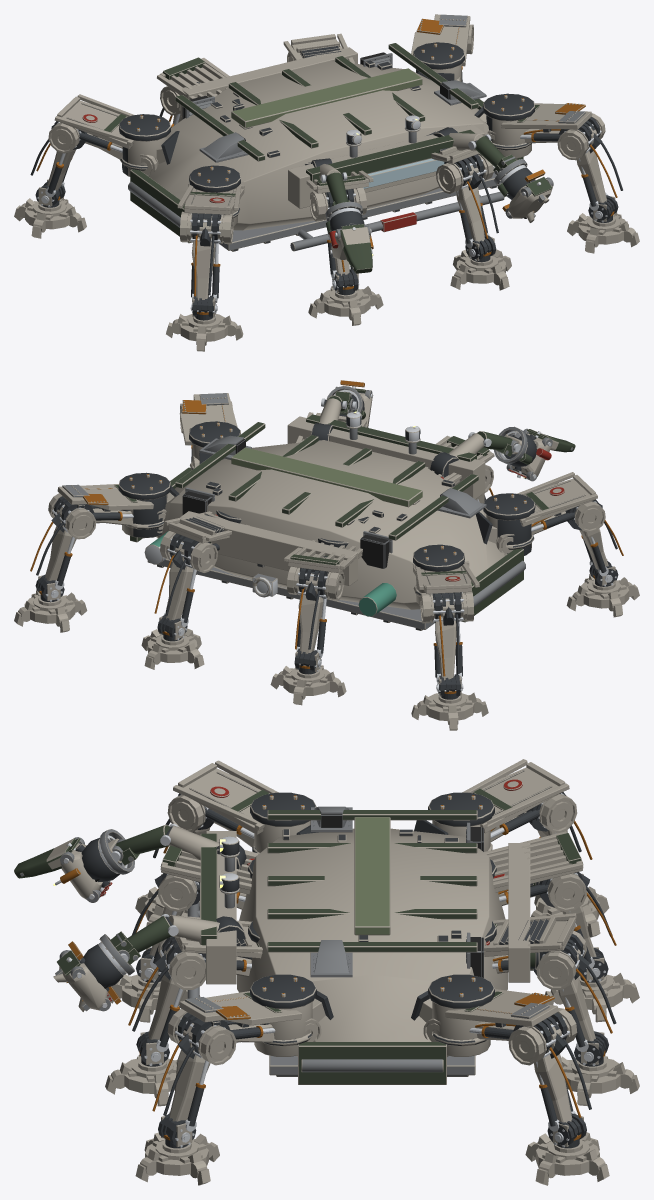
Rendered from crab_walker_8.fbx.
The picture shows the model from 3 angles, top to bottom: view 1: azimuth 30°, elevation 25°; view 2: azimuth 150°, elevation 25°; view 3: azimuth 270°, elevation 25°; orthographic projection. The views are drawn at different scales.
Parts seen in each view (by area): view 1: Mesh_Crab_Carapace, Mesh_Crab_Prow, Mesh_Crab_Underbelly, Mesh_Leg_F1_Lower, Mesh_Leg_F3_Lower, Mesh_Claw_N_Palm, Mesh_Leg_F4_Lower, Mesh_Claw_P_Palm, Mesh_Leg_A1_Shroud, Mesh_Leg_F3_Foot, Mesh_Leg_F2_Foot, Mesh_Leg_F1_Foot (+19 smaller); view 2: Mesh_Crab_Carapace, Mesh_Crab_Stern, Mesh_Crab_Prow, Mesh_Crab_Underbelly, Mesh_Leg_A1_Lower, Mesh_Leg_A2_Lower, Mesh_Leg_A3_Lower, Mesh_Leg_A4_Lower, Mesh_Leg_A3_Foot, Mesh_Leg_F1_Shroud, Mesh_Leg_A2_Foot, Mesh_Leg_A1_Foot (+19 smaller); view 3: Mesh_Crab_Carapace, Mesh_Crab_Underbelly, Mesh_Crab_Prow, Mesh_Leg_F4_Lower, Mesh_Leg_A4_Lower, Mesh_Claw_N_Palm, Mesh_Leg_F1_Shroud, Mesh_Leg_A1_Shroud, Mesh_Leg_F4_Foot, Mesh_Leg_A4_Foot, Mesh_Claw_P_Palm, Mesh_Crab_Stern (+29 smaller).
Boxes of the visible parts, x1,y1,x2,y2 form: Mesh_Crab_Carapace: (119, 42, 534, 230); Mesh_Crab_Prow: (288, 115, 504, 251); Mesh_Crab_Underbelly: (128, 98, 523, 251); Mesh_Leg_F1_Lower: (180, 211, 233, 302); Mesh_Leg_F3_Lower: (436, 153, 493, 247); Mesh_Claw_N_Palm: (325, 201, 373, 273); Mesh_Leg_F4_Lower: (557, 113, 607, 210); Mesh_Claw_P_Palm: (494, 159, 553, 218); Mesh_Leg_A1_Shroud: (54, 94, 134, 148); Mesh_Leg_F3_Foot: (450, 235, 511, 290); Mesh_Leg_F2_Foot: (308, 269, 383, 325); Mesh_Leg_F1_Foot: (166, 295, 243, 351); Mesh_Crab_Carapace: (118, 421, 535, 609); Mesh_Crab_Stern: (144, 511, 396, 616); Mesh_Crab_Prow: (287, 411, 485, 499); Mesh_Crab_Underbelly: (130, 467, 525, 630); Mesh_Leg_A1_Lower: (420, 591, 474, 682); Mesh_Leg_A2_Lower: (287, 566, 344, 657); Mesh_Leg_A3_Lower: (160, 531, 217, 627); Mesh_Leg_A4_Lower: (45, 493, 96, 589); Mesh_Leg_A3_Foot: (141, 614, 204, 669); Mesh_Leg_F1_Shroud: (516, 472, 597, 526); Mesh_Leg_A2_Foot: (270, 648, 346, 705); Mesh_Leg_A1_Foot: (411, 674, 488, 730); Mesh_Crab_Carapace: (237, 792, 507, 1056); Mesh_Crab_Underbelly: (269, 1042, 475, 1084); Mesh_Crab_Prow: (187, 831, 239, 998); Mesh_Leg_F4_Lower: (167, 1008, 236, 1131); Mesh_Leg_A4_Lower: (508, 1007, 577, 1131); Mesh_Claw_N_Palm: (14, 829, 134, 902); Mesh_Leg_F1_Shroud: (173, 760, 278, 834); Mesh_Leg_A1_Shroud: (462, 759, 569, 833); Mesh_Leg_F4_Foot: (135, 1113, 219, 1185); Mesh_Leg_A4_Foot: (525, 1113, 609, 1185); Mesh_Claw_P_Palm: (57, 934, 134, 1011); Mesh_Crab_Stern: (508, 843, 539, 982).
Size of the model in its own units: 962 by 300 by 899.
